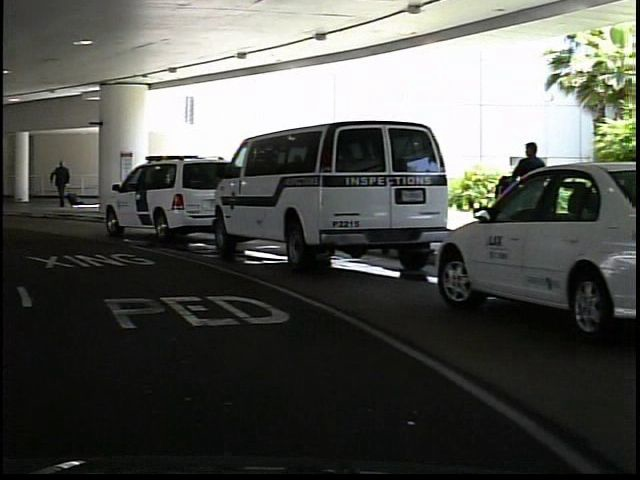person: (503, 137, 547, 261), (46, 156, 73, 215)
